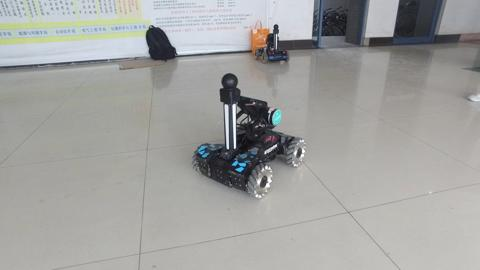bag: (144, 23, 181, 63), (249, 18, 271, 52)
chariot: (190, 71, 306, 200), (252, 22, 290, 64)
